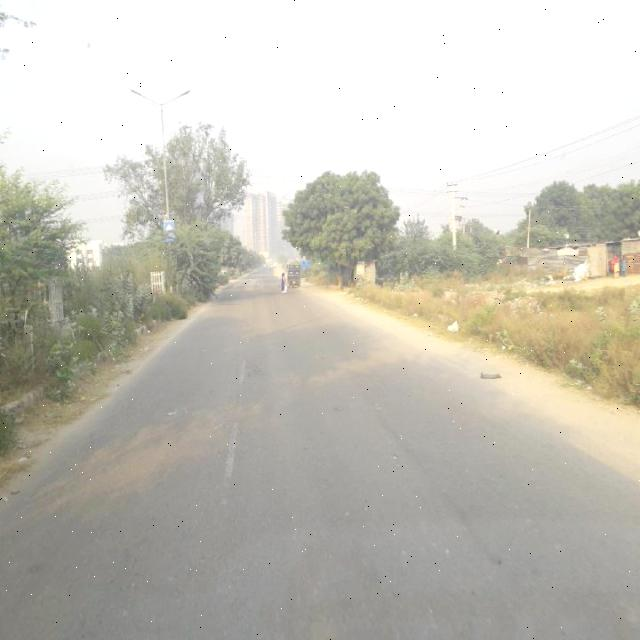D44: (212, 409, 244, 515)
